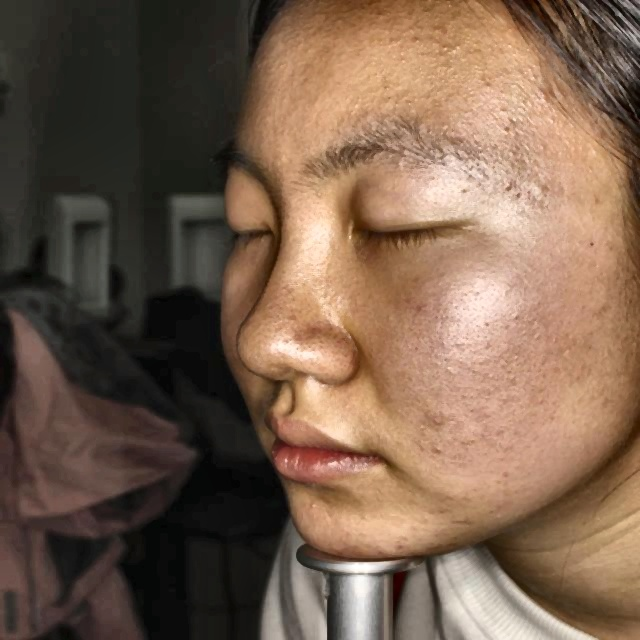comedone: (303, 497, 323, 512)
